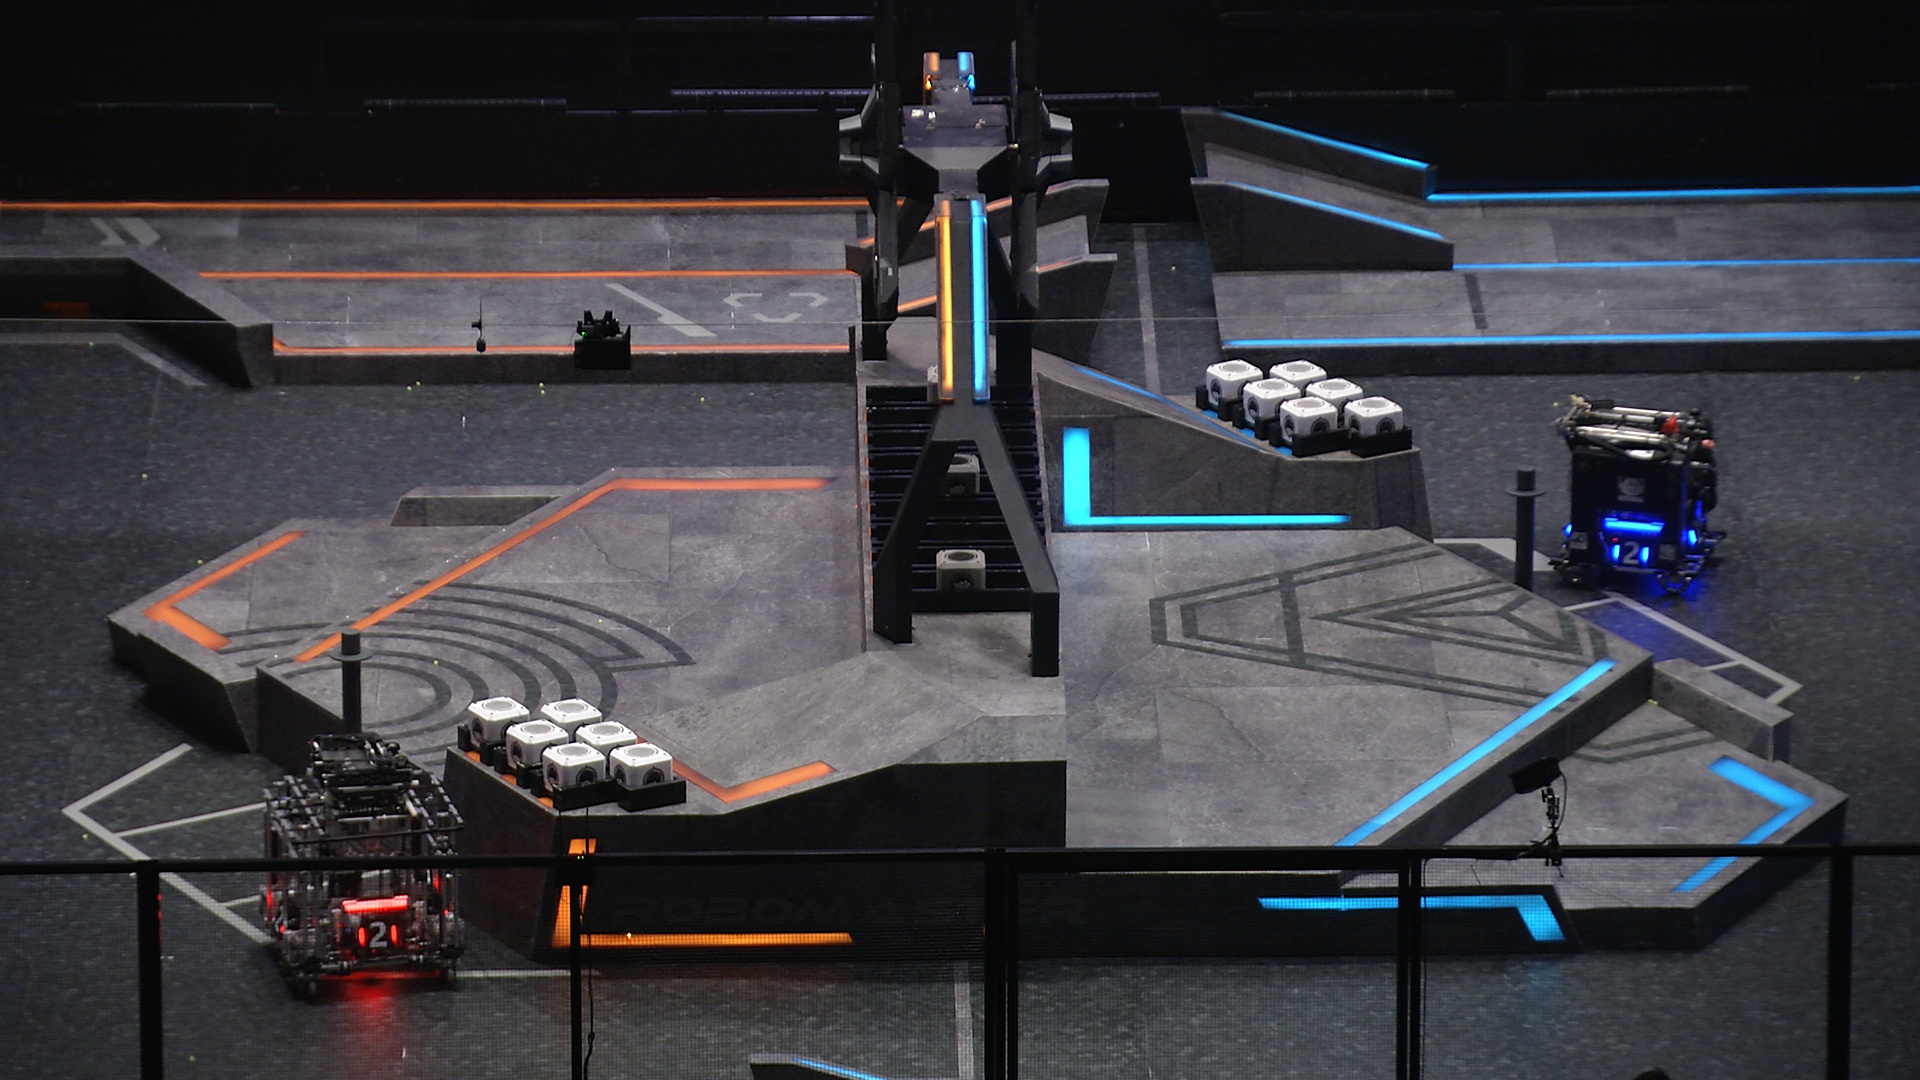armor: (352, 920, 400, 953), (1610, 541, 1651, 568), (262, 903, 291, 934), (1687, 520, 1705, 545)
car: (261, 731, 472, 997), (1561, 386, 1727, 597)
